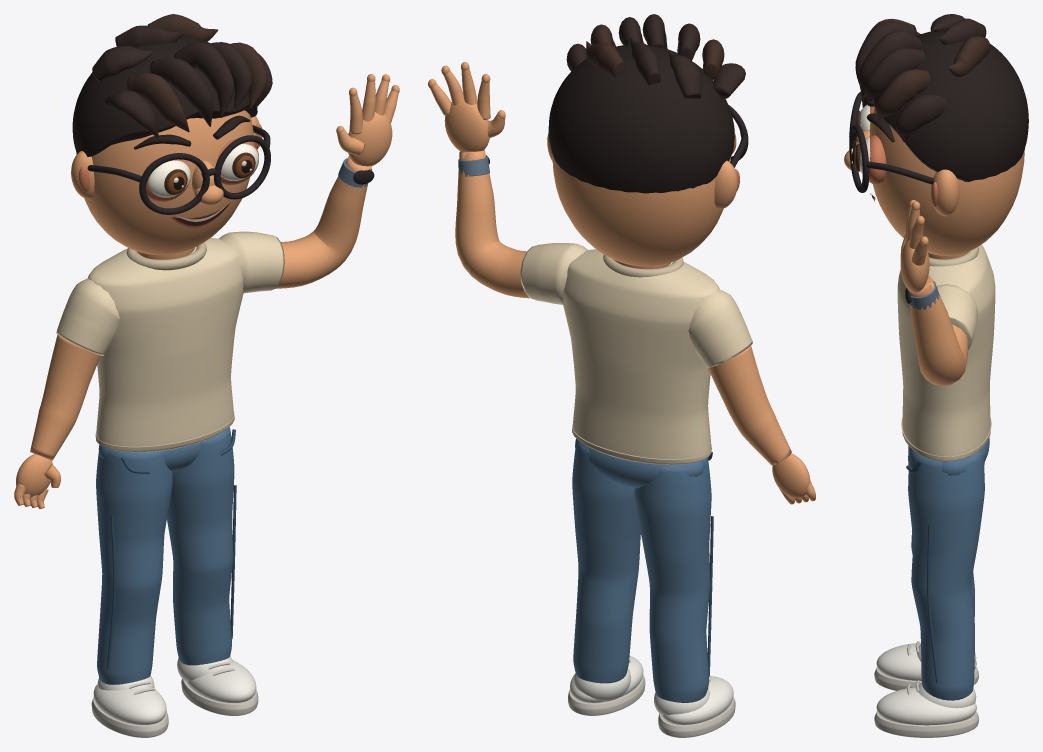
The model's file is character-prototype.glb.
The picture shows the model from 3 angles, left to right: view 1: azimuth 30°, elevation 25°; view 2: azimuth 150°, elevation 25°; view 3: azimuth 270°, elevation 25°; orthographic projection.
Visible parts, largest first — view 1: T-shirt, Jeans leg -1, Jeans leg 1, Face, Crown and tapered sides, Wave arm, Relaxed arm, Relaxed sleeve, Wave sleeve, Sneaker upper -1, Sculpted hair lock 2, Sneaker upper 1 (+19 smaller); view 2: T-shirt, Crown and tapered sides, Jeans leg -1, Jeans leg 1, Face, Wave arm, Relaxed arm, Relaxed sleeve, Wave sleeve, Denim seat, Wave palm, Sneaker upper -1 (+16 smaller); view 3: Jeans leg 1, Crown and tapered sides, T-shirt, Face, Wave arm, Sneaker upper 1, Sculpted hair lock 4, Sculpted hair lock 5, Outsole 1, Wave sleeve, Sculpted hair lock 6, Sneaker upper -1 (+17 smaller).
Part boxes in pixels (x1,y1,x2,y2): T-shirt: (88, 238, 243, 452); Jeans leg -1: (96, 449, 172, 684); Jeans leg 1: (167, 427, 234, 665); Face: (76, 110, 254, 255); Crown and tapered sides: (72, 35, 257, 156); Wave arm: (275, 156, 371, 288); Relaxed arm: (30, 334, 100, 460); Relaxed sleeve: (56, 278, 119, 355); Wave sleeve: (219, 231, 284, 293); Sneaker upper -1: (93, 684, 166, 724); Sculpted hair lock 2: (149, 58, 213, 126); Sneaker upper 1: (187, 660, 256, 702); T-shirt: (563, 249, 719, 464); Crown and tapered sides: (548, 44, 734, 193); Jeans leg -1: (634, 457, 711, 702); Jeans leg 1: (572, 441, 640, 683); Face: (552, 154, 730, 266); Wave arm: (455, 150, 529, 298); Relaxed arm: (708, 346, 791, 465); Relaxed sleeve: (688, 289, 752, 367); Wave sleeve: (520, 243, 587, 304); Denim seat: (575, 438, 704, 488); Wave palm: (444, 98, 489, 151); Sneaker upper -1: (662, 676, 733, 724); Jeans leg 1: (908, 448, 984, 700); Crown and tapered sides: (873, 30, 1028, 181); T-shirt: (897, 244, 995, 456); Face: (869, 107, 1024, 255); Wave arm: (908, 276, 968, 385); Sneaker upper 1: (876, 687, 976, 725); Sculpted hair lock 4: (865, 48, 926, 102); Sculpted hair lock 5: (876, 69, 931, 120); Outsole 1: (874, 711, 978, 737); Wave sleeve: (936, 284, 977, 349); Sculpted hair lock 6: (895, 94, 946, 141); Sneaker upper -1: (876, 642, 976, 680).
Size of the model in its own units: 1.88 by 3.14 by 0.776.
